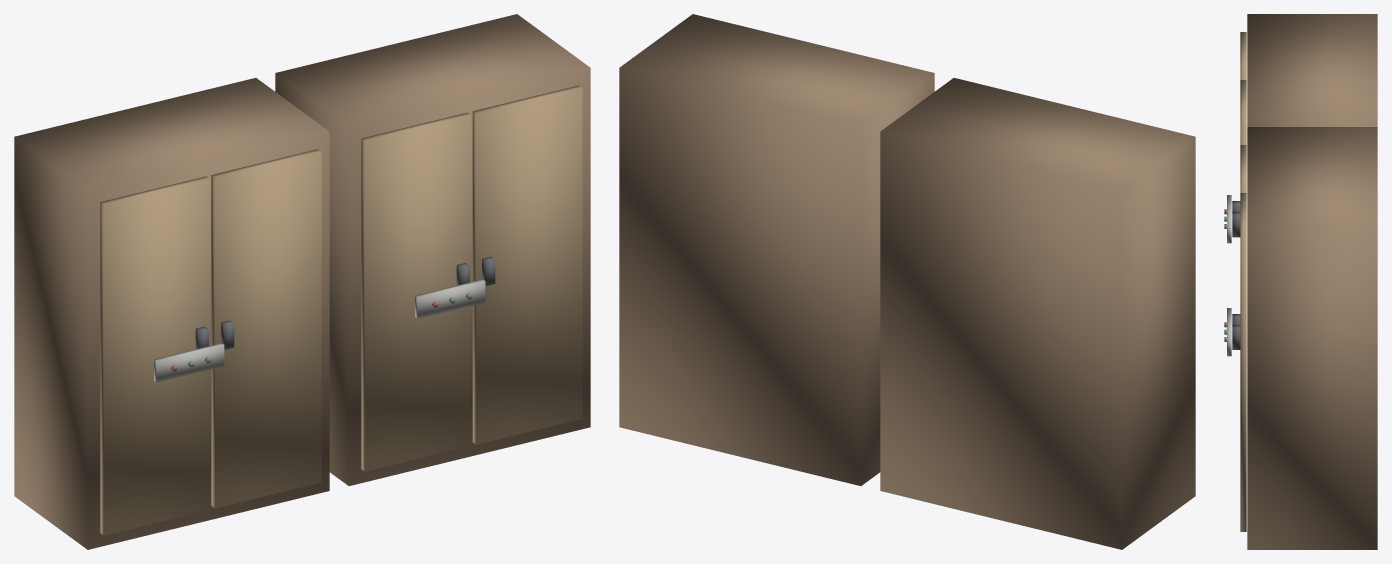
File: kitchen_base_cabinet__cluster.glb
3 renders of one model, left to right at view 1: azimuth 30°, elevation 25°; view 2: azimuth 150°, elevation 25°; view 3: azimuth 270°, elevation 25°, orthographic. The views are drawn at different scales.
Parts seen in each view (by area): view 1: world; view 2: world; view 3: world.
Part boxes in pixels (x1=…): world: x1=14, y1=14, x2=590, y2=549; world: x1=619, y1=14, x2=1195, y2=549; world: x1=1224, y1=14, x2=1377, y2=549.
Size of the model in its own units: 1.98 by 1.35 by 0.5885.
